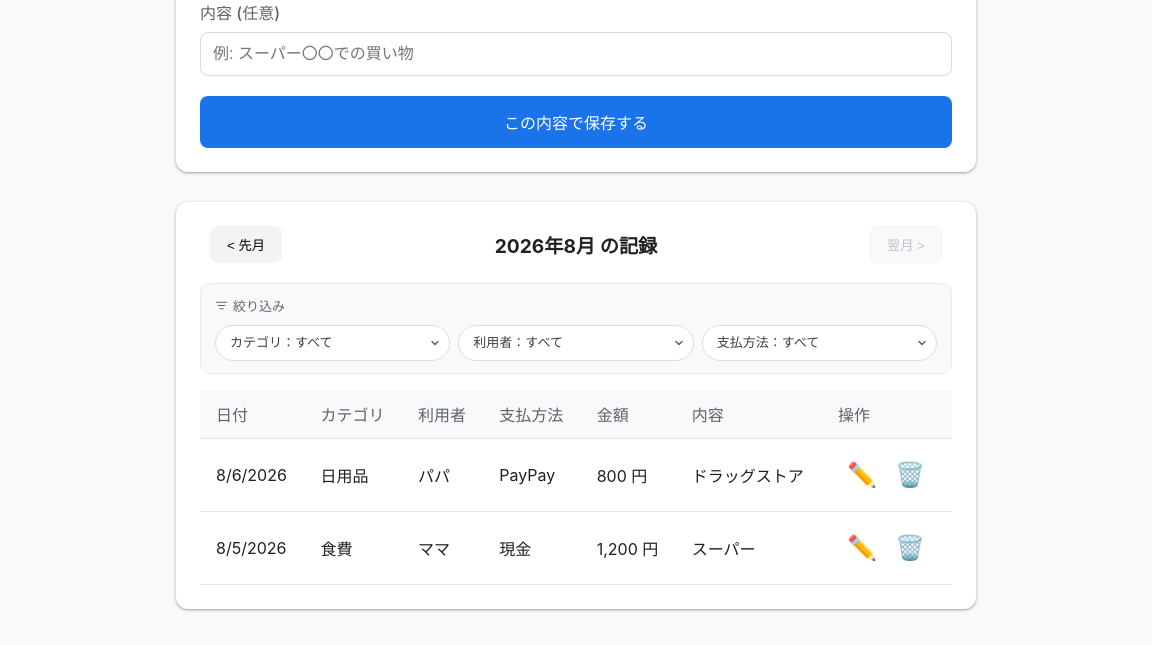
同じ項目で2つ選ぶと、どちらも残る
The width and height of the screenshot is (1152, 645).
(page scrolled)
Check: the text "スーパー" is shown, box x1=676 y1=511 x2=822 y2=584
What coordinates should you click on to do the following:
click the button "カテゴリ：すべて"
I would click on:
 (333, 343)
Its box is x1=215 y1=325 x2=450 y2=361.
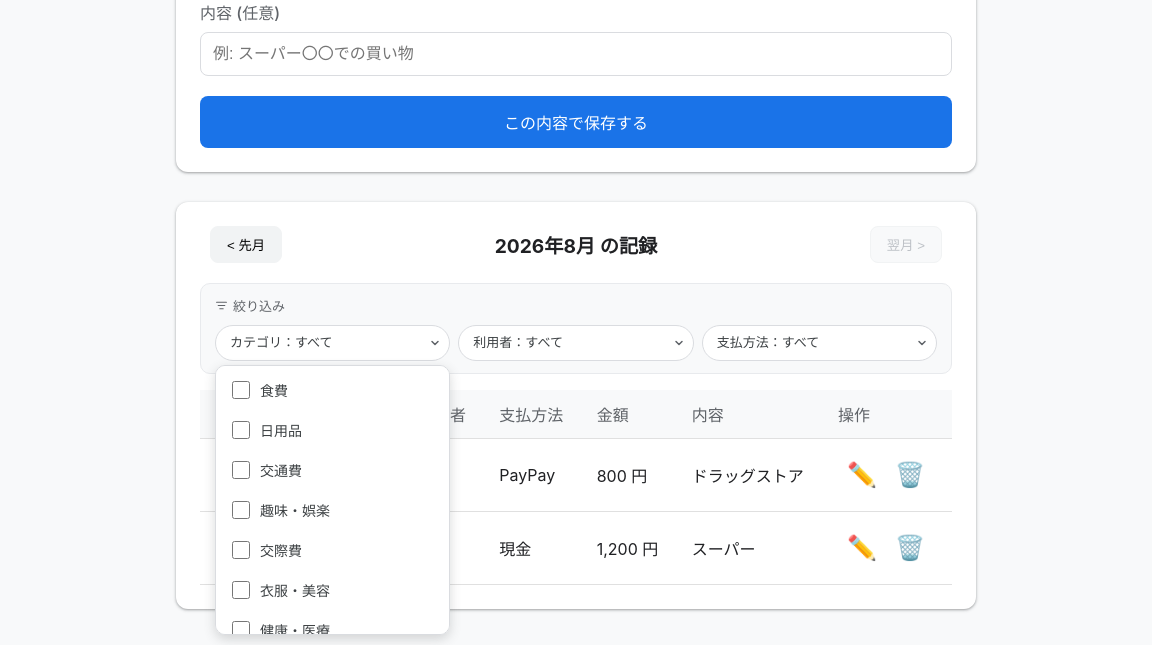
What coordinates should you click on to do the following:
click the checkbox labelled "食費"
I would click on:
 (241, 390)
Its box is x1=232 y1=381 x2=250 y2=399.
(page scrolled)
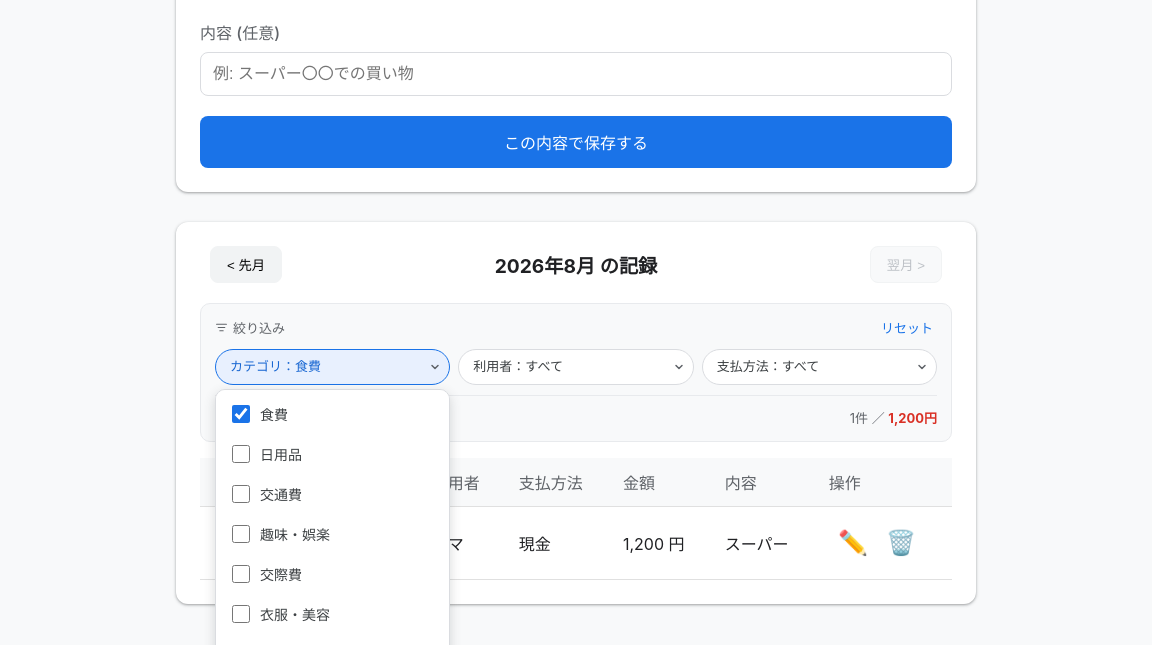
Check: the text "ドラッグストア" is gone
What coordinates should you click on to do the following:
click the checkbox labelled "日用品"
I would click on:
 (241, 454)
Its box is x1=232 y1=445 x2=250 y2=463.
(page scrolled)
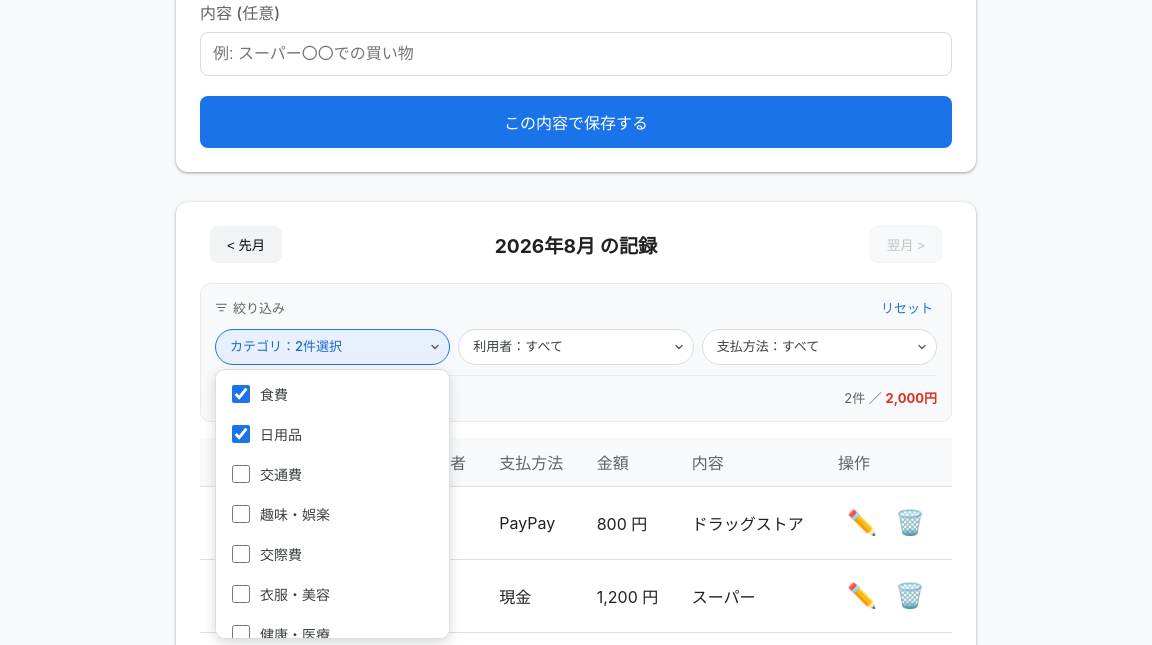
Check: the text "ドラッグストア" is shown, box x1=676 y1=486 x2=822 y2=559
Check: the element with class "filter-result-summary" shows "2件", box x1=844 y1=388 x2=937 y2=407
Check: the element with class "filter-result-summary" shows "2,000円", box x1=844 y1=388 x2=937 y2=407
